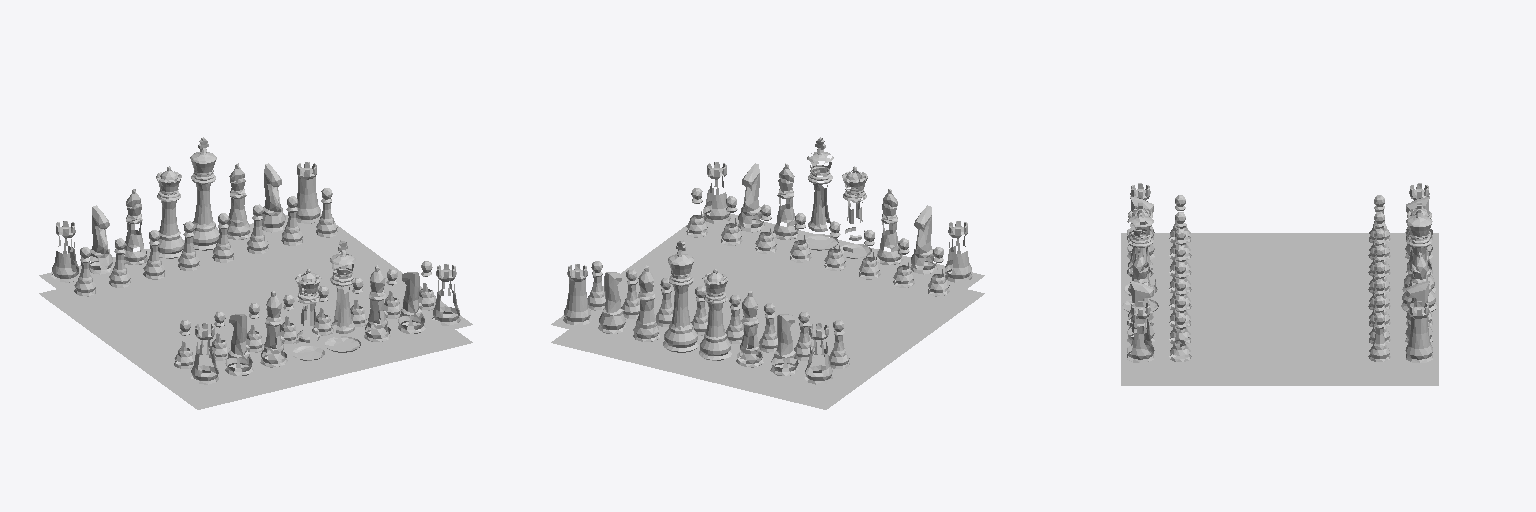
Rendered from chess.obj.
3 views of the same model, side by side, from view 1: azimuth 30°, elevation 25°; view 2: azimuth 150°, elevation 25°; view 3: azimuth 270°, elevation 25° (orthographic).
Visible parts, largest first — view 1: object_12, object_28, object_13, object_29, object_30, object_27, object_9, object_11, object_10, object_14, object_15, object_26 (+28 smaller); view 2: object_12, object_13, object_28, object_29, object_9, object_14, object_11, object_10, object_26, object_30, object_31, object_27 (+28 smaller); view 3: object_38, object_40, object_42, object_44, object_9, object_12, object_35, object_48, object_33, object_46, object_25, object_28 (+28 smaller).
Boxes of the visible parts, box(x1,y1,x2,y2) form: object_12: box(190, 137, 219, 250); object_28: box(325, 240, 360, 352); object_13: box(156, 166, 184, 258); object_29: box(293, 269, 324, 360); object_30: box(260, 291, 287, 367); object_27: box(364, 265, 390, 341); object_9: box(296, 162, 320, 223); object_11: box(227, 163, 250, 239); object_10: box(262, 163, 285, 232); object_14: box(124, 189, 147, 264); object_15: box(89, 205, 113, 274); object_26: box(398, 272, 425, 333); object_12: box(663, 240, 698, 352); object_13: box(699, 269, 732, 360); object_28: box(803, 137, 838, 250); object_29: box(840, 166, 871, 258); object_9: box(563, 264, 591, 325); object_14: box(736, 291, 763, 367); object_11: box(633, 265, 659, 341); object_10: box(598, 272, 625, 333); object_26: box(738, 163, 764, 232); object_30: box(876, 189, 903, 264); object_31: box(910, 205, 937, 274); object_27: box(773, 163, 799, 239); object_38: box(1240, 351, 1279, 385); object_40: box(1200, 351, 1239, 385); object_42: box(1320, 351, 1359, 385); object_44: box(1280, 351, 1319, 385); object_9: box(1405, 301, 1432, 362); object_12: box(1401, 202, 1437, 311); object_35: box(1161, 351, 1199, 385); object_48: box(1360, 351, 1398, 385); object_33: box(1121, 351, 1160, 385); object_46: box(1399, 351, 1438, 385); object_25: box(1127, 301, 1154, 362); object_28: box(1122, 202, 1158, 311).
Bounding box in the file's own units: 16 × 6.91 × 16.